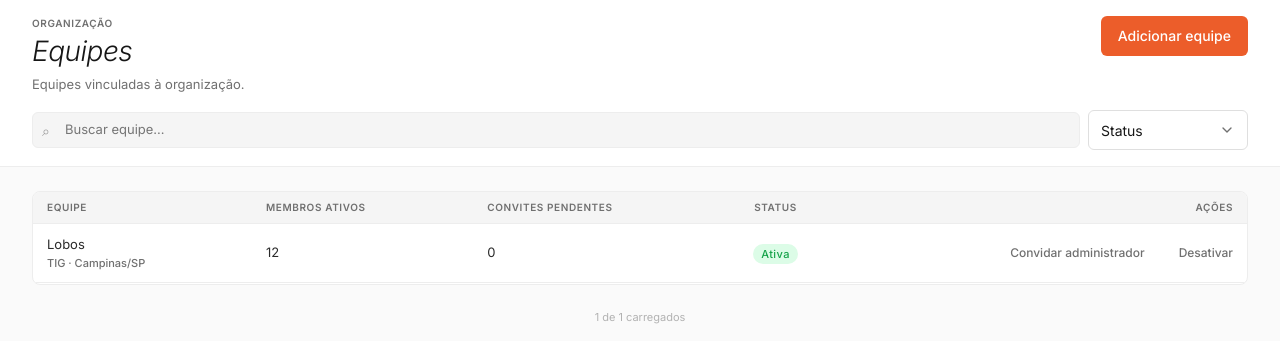
it: OrgTeamsPage › offers the feminine inactive label in the status filter
Expected: the heading "Equipes" is shown, [32, 34, 132, 68]
Click the button with aria-label "Filtrar equipes por status": [1168, 130] box [1088, 110, 1248, 150]
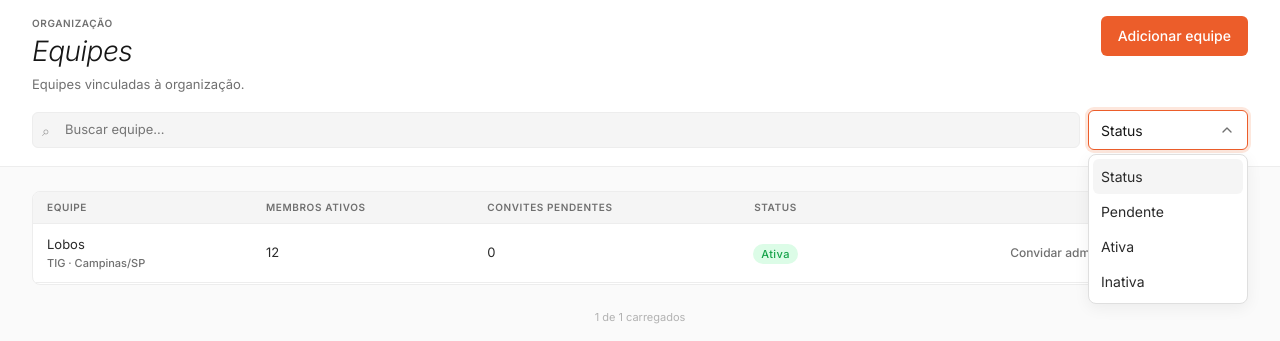
Expected: the option "Inativa" is shown, [1101, 273, 1144, 290]
